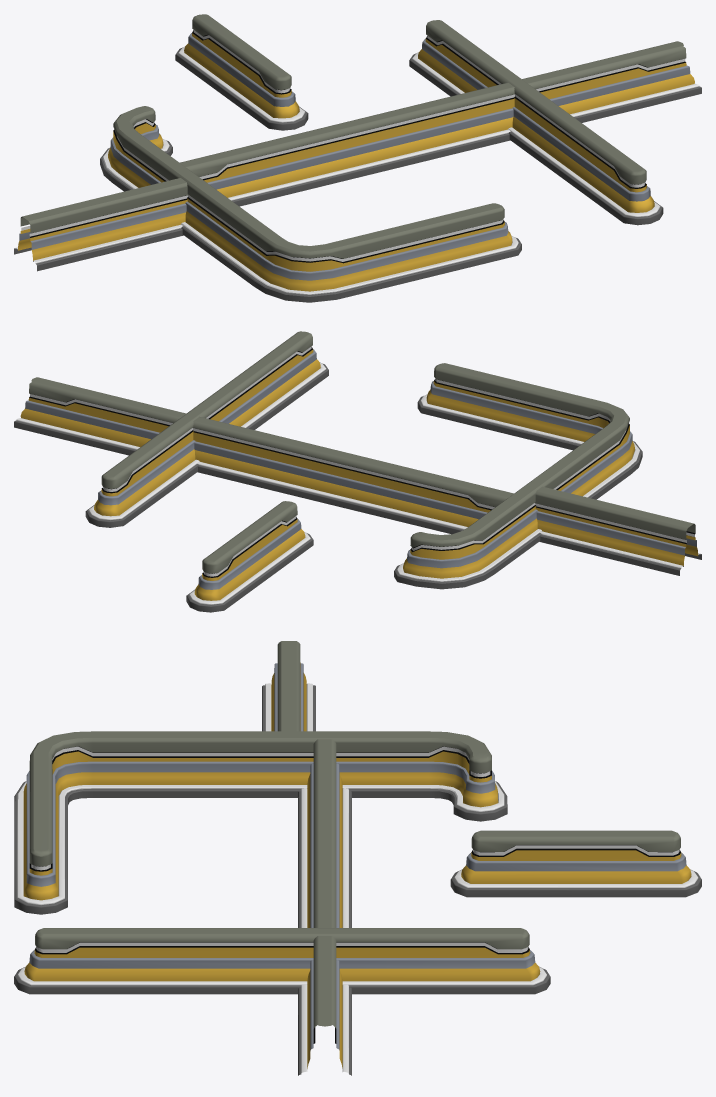
Rendered from Level17_Small_walls.fbx.
3 views of the same model, one above another, from view 1: azimuth 30°, elevation 25°; view 2: azimuth 150°, elevation 25°; view 3: azimuth 270°, elevation 25° (orthographic). The views are drawn at different scales.
Visible parts, largest first — view 1: Small_wallv1_4, Small_wall_L46, Small_wallv1_20, Small_wall_L47, Small_wallv1_21; view 2: Small_wallv1_4, Small_wall_L46, Small_wallv1_20, Small_wall_L47, Small_wallv1_21; view 3: Small_wall_L46, Small_wallv1_20, Small_wallv1_21, Small_wallv1_4, Small_wall_L47.
Boxes of the visible parts, box(x1,y1,x2,y2) form: Small_wallv1_4: box(179, 41, 701, 206); Small_wall_L46: box(100, 106, 521, 302); Small_wallv1_20: box(409, 20, 663, 225); Small_wall_L47: box(14, 178, 188, 271); Small_wallv1_21: box(175, 14, 308, 130); Small_wallv1_4: box(14, 377, 513, 534); Small_wall_L46: box(394, 363, 642, 589); Small_wallv1_20: box(85, 331, 328, 527); Small_wall_L47: box(535, 486, 701, 575); Small_wallv1_21: box(186, 501, 313, 612); Small_wall_L46: box(14, 731, 507, 914); Small_wallv1_20: box(14, 928, 550, 994); Small_wallv1_21: box(450, 830, 701, 897); Small_wallv1_4: box(298, 739, 351, 1075); Small_wall_L47: box(262, 641, 315, 731).
Size of the model in its own units: 590 by 37.66 by 439.
